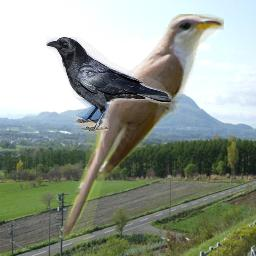Crow: (46, 37, 172, 131)
Cuckoo: (57, 14, 224, 245)
